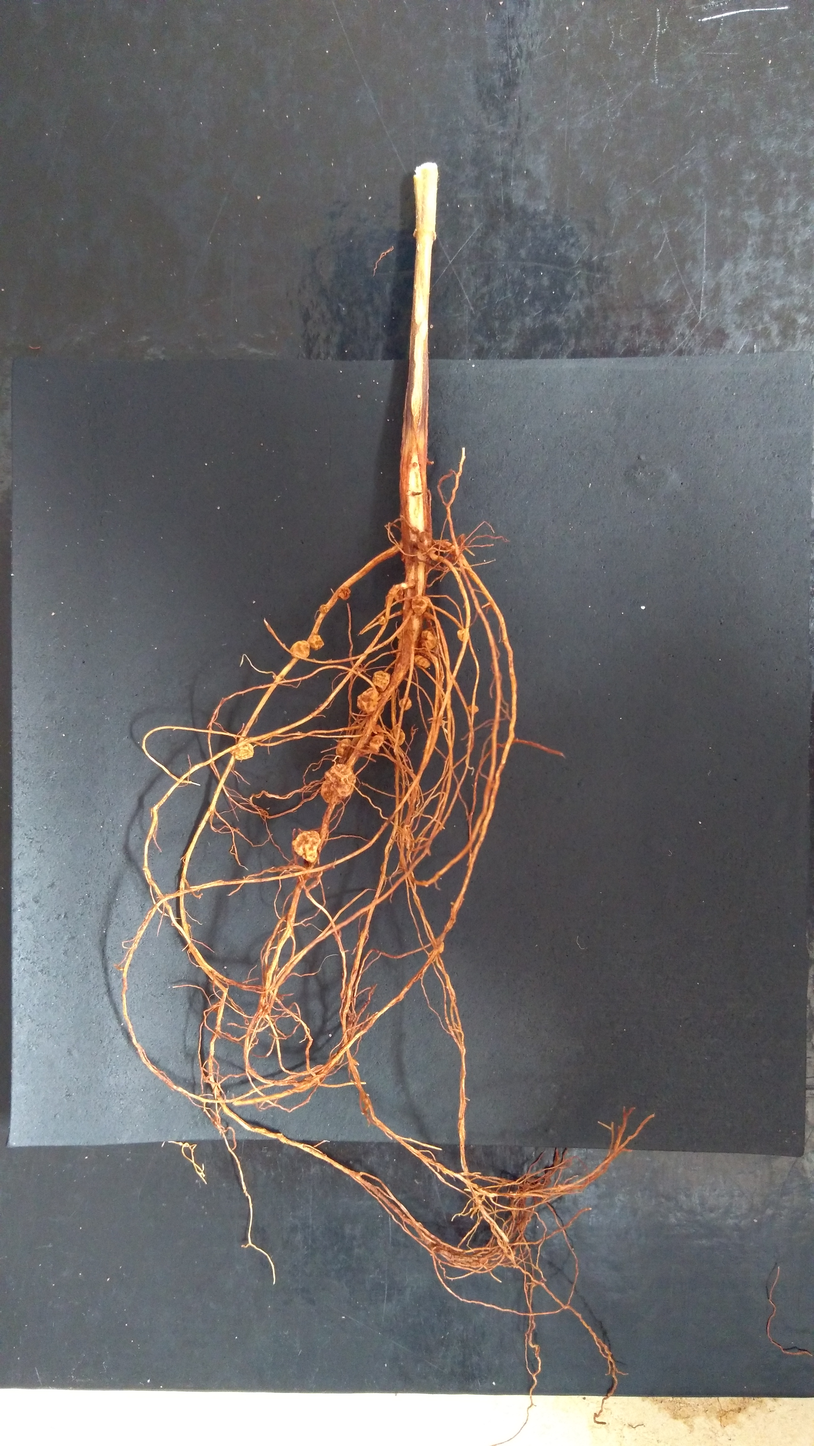nodule: (319, 763, 358, 806), (290, 828, 322, 863), (354, 685, 379, 715), (228, 741, 255, 761), (409, 593, 431, 617), (289, 639, 311, 660), (371, 670, 391, 693), (420, 630, 438, 652), (413, 652, 432, 671), (335, 737, 352, 757), (390, 726, 406, 746), (390, 584, 405, 604), (309, 634, 325, 651), (397, 695, 413, 712), (368, 734, 385, 750), (336, 586, 352, 602), (456, 628, 470, 643), (434, 936, 445, 954), (419, 530, 432, 543), (466, 704, 480, 715), (318, 603, 330, 614), (378, 615, 386, 626), (411, 526, 420, 535), (436, 555, 444, 564), (375, 724, 382, 733), (412, 461, 418, 467)
